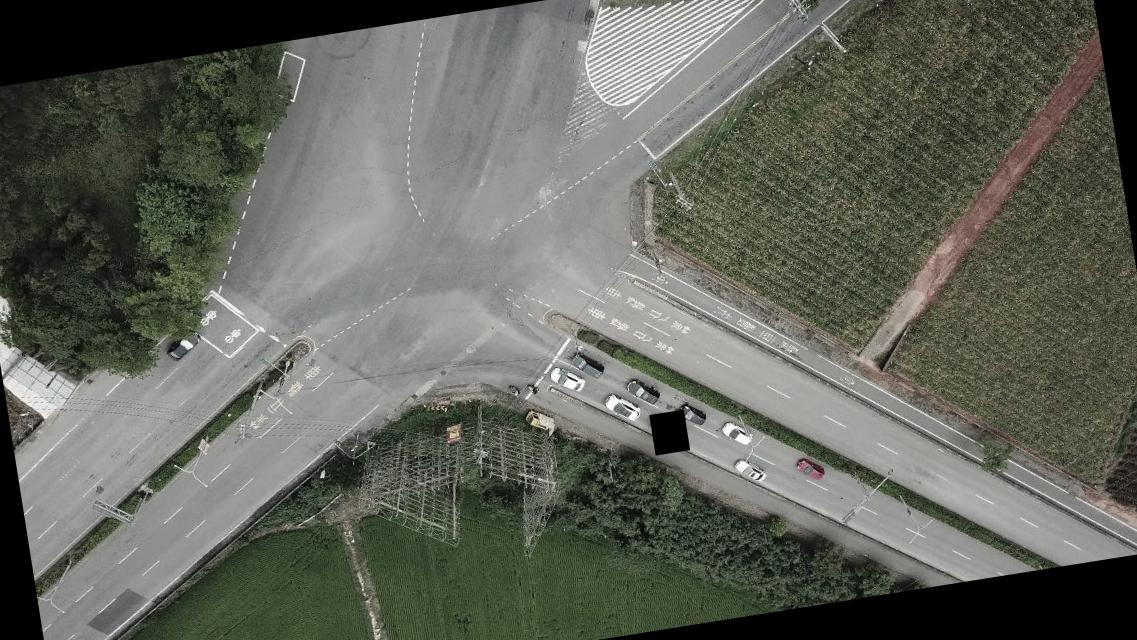vehicle: (566, 346, 606, 384), (603, 390, 642, 428), (623, 374, 660, 408), (549, 362, 585, 396), (164, 331, 203, 362), (732, 455, 768, 487), (720, 419, 753, 447), (522, 406, 555, 434), (794, 455, 826, 483), (677, 401, 706, 429)
